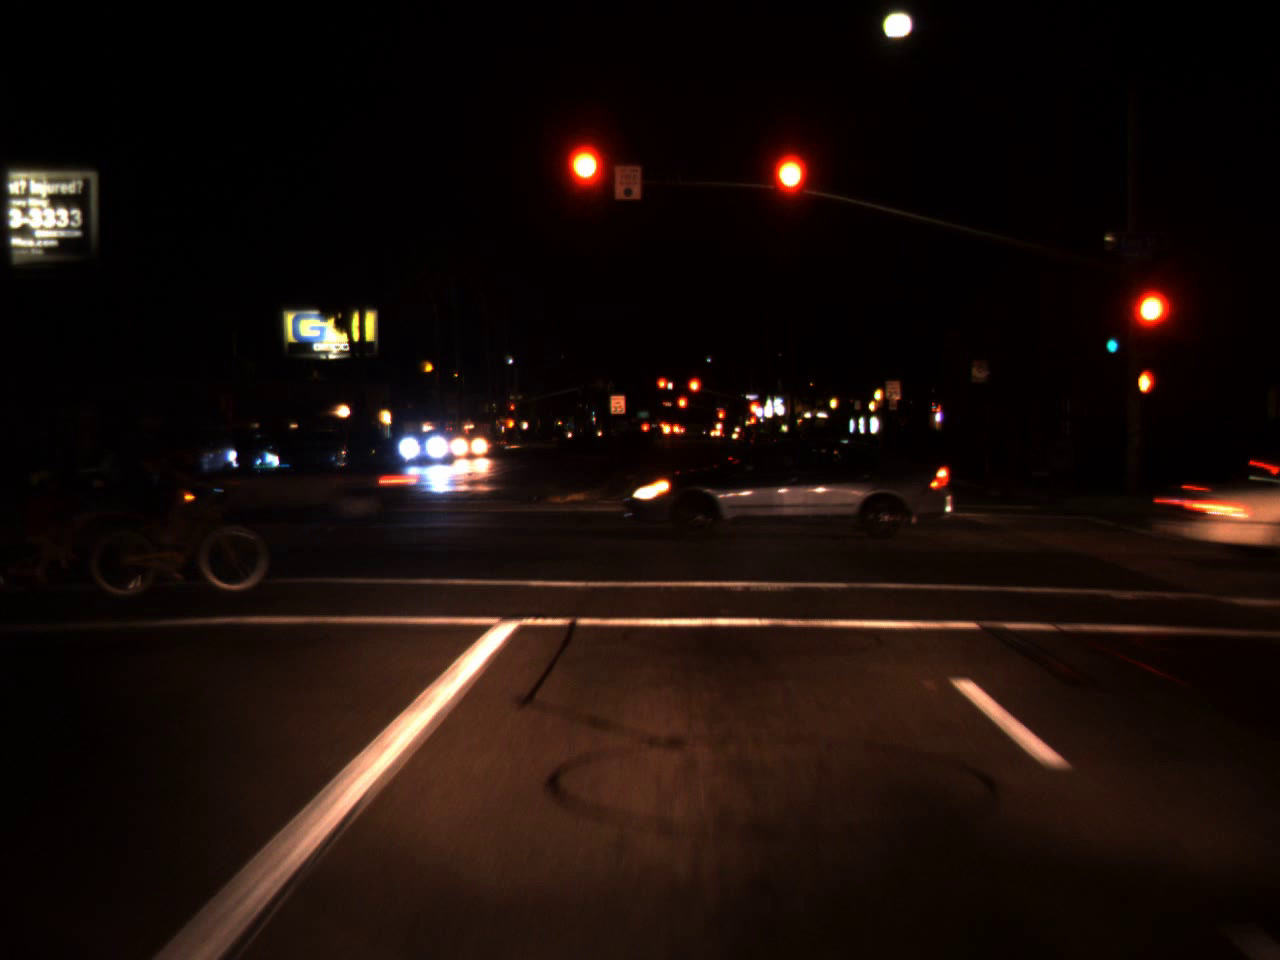stop: (1132, 289, 1169, 361), (772, 155, 808, 225), (569, 147, 603, 219), (685, 377, 701, 404), (745, 399, 760, 426), (675, 395, 688, 422), (656, 376, 668, 400), (504, 401, 516, 425), (717, 408, 724, 429)
